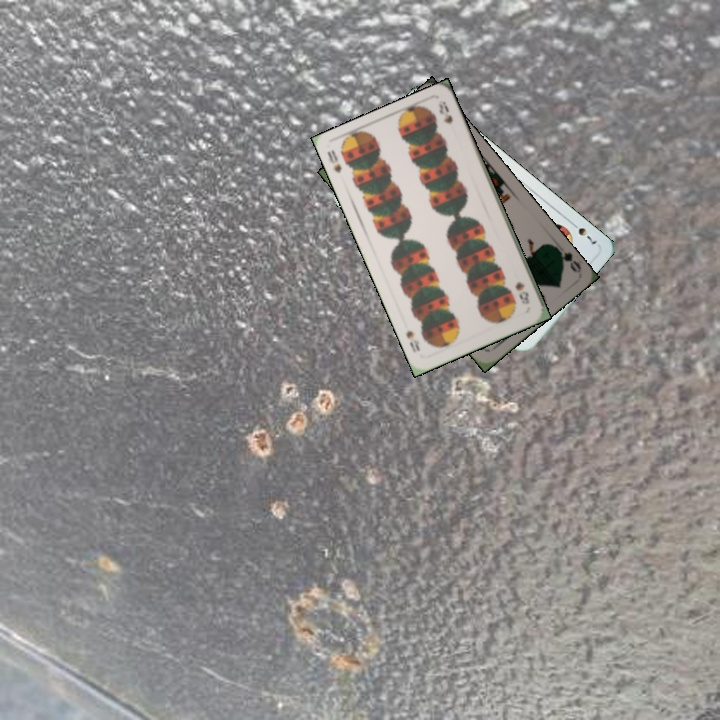GO: (549, 241, 583, 275)
S7: (566, 217, 600, 247)
S8: (323, 146, 344, 176), (511, 278, 532, 307)
